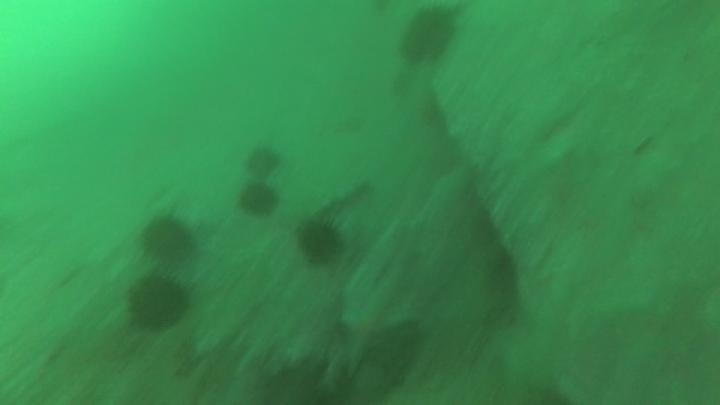echinus: (124, 271, 196, 338), (139, 211, 199, 268), (291, 210, 350, 267), (399, 8, 456, 64), (234, 178, 284, 224), (240, 142, 288, 181)
